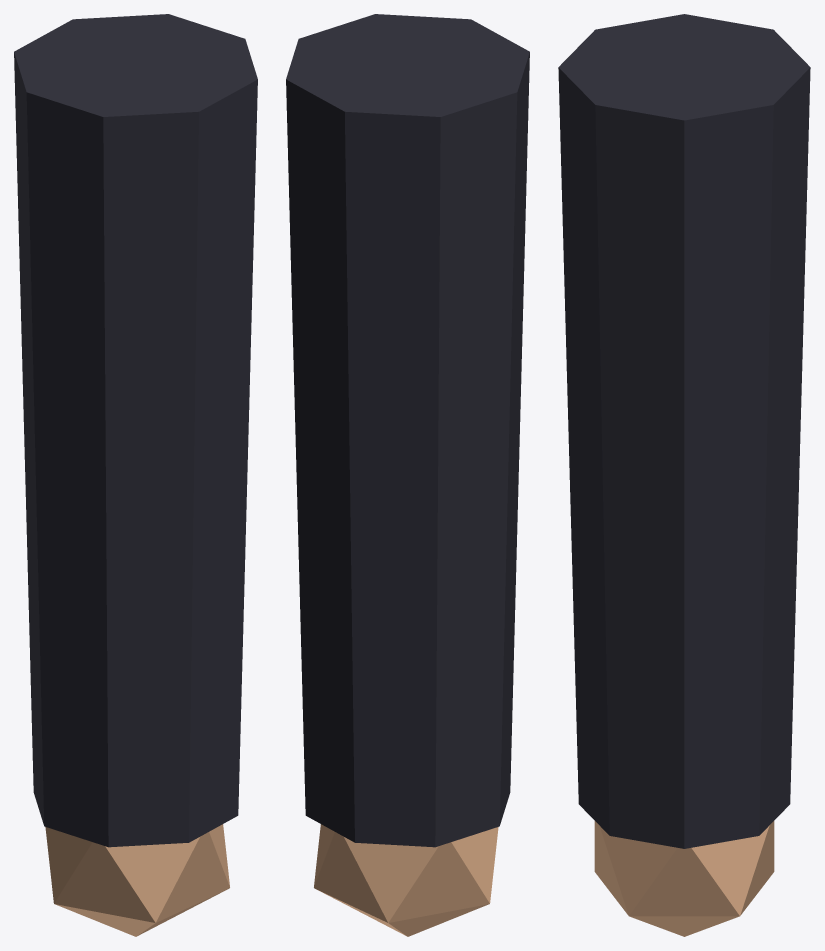
Rendered from insan_e1k_kol.glb.
3 views of the same model, side by side, from view 1: azimuth 30°, elevation 25°; view 2: azimuth 150°, elevation 25°; view 3: azimuth 270°, elevation 25° (orthographic).
Visible parts, largest first — view 1: Cone; view 2: Cone; view 3: Cone.
Part boxes in pixels (x1,y1,x2,y2): Cone: (14,14,257,936); Cone: (286,14,529,936); Cone: (558,14,810,936).
Bounding box in the file's own units: 0.031 × 0.118 × 0.031.
